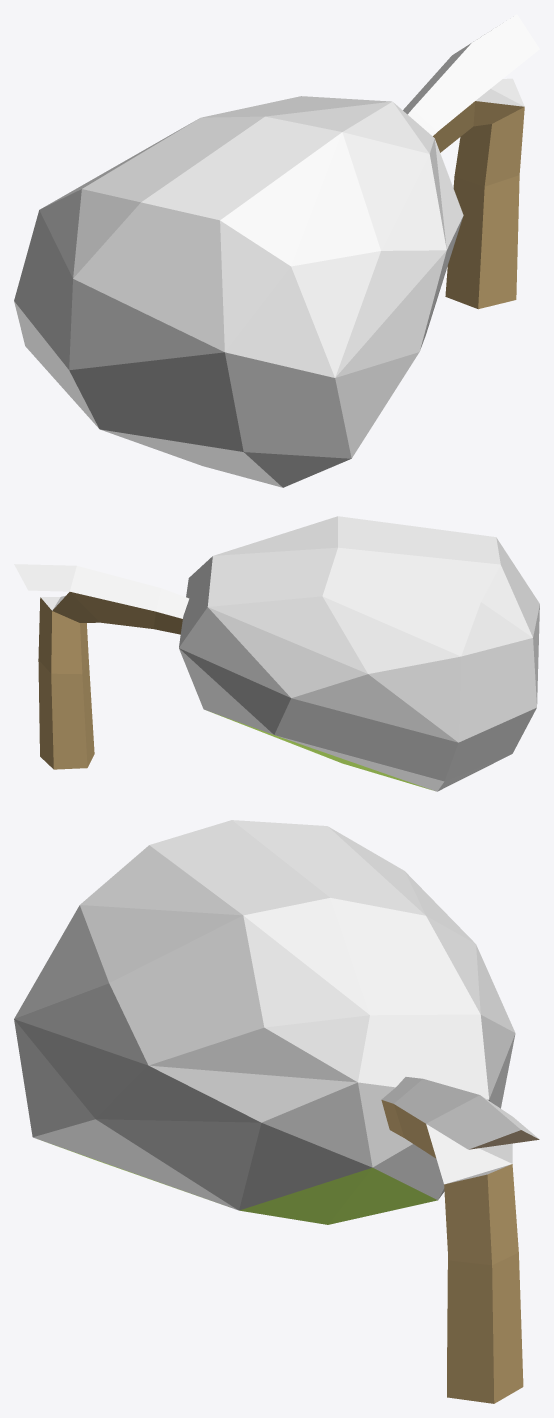
The model's file is Simple_Tree_crk_m_Snow_02.fbx.
The picture shows the model from 3 angles, top to bottom: view 1: azimuth 30°, elevation 25°; view 2: azimuth 150°, elevation 25°; view 3: azimuth 270°, elevation 25°; orthographic projection. The views are drawn at different scales.
Visible parts, largest first — view 1: Simple_Tree_crk_m_Snow_02; view 2: Simple_Tree_crk_m_Snow_02; view 3: Simple_Tree_crk_m_Snow_02.
Boxes of the visible parts, box(x1,y1,x2,y2) form: Simple_Tree_crk_m_Snow_02: box(14, 14, 539, 487); Simple_Tree_crk_m_Snow_02: box(14, 516, 539, 791); Simple_Tree_crk_m_Snow_02: box(14, 820, 539, 1403).
Size of the model in its own units: 521 by 263 by 373.
